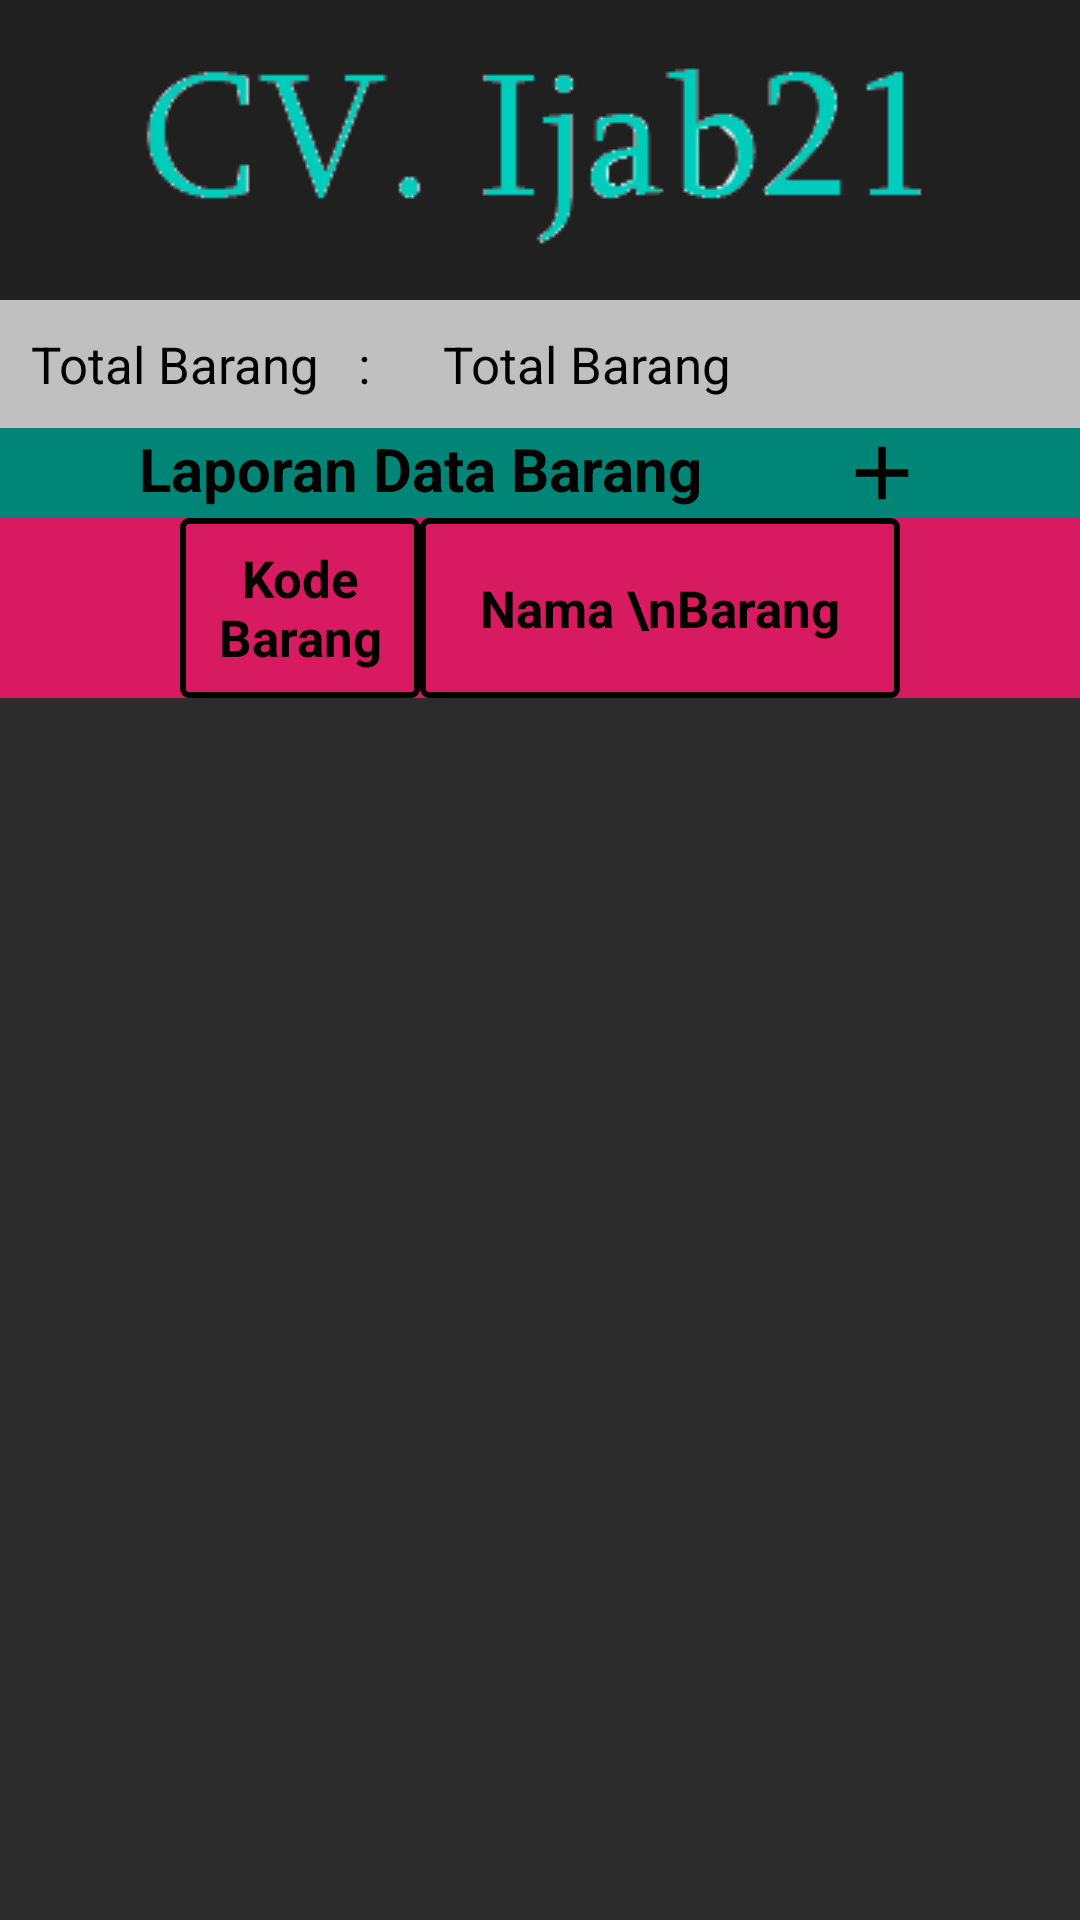

Screen size 1080 × 1920. Icon name, then its center in pixels as [x,y]:
add: [882,473]
